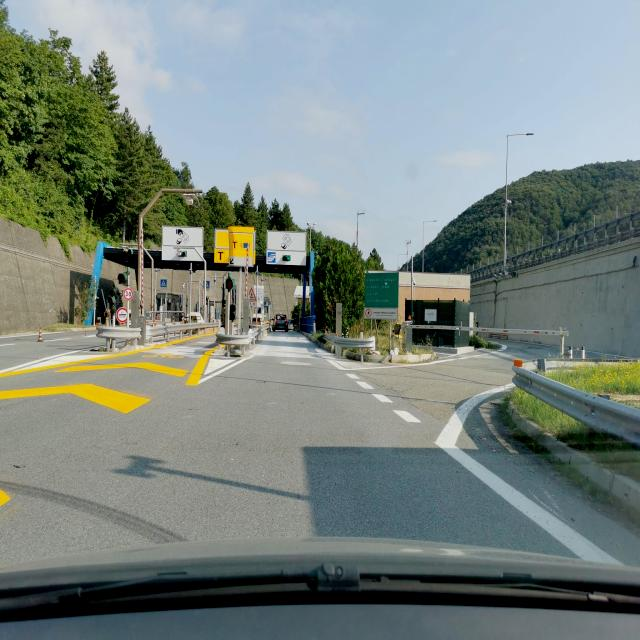car: (270, 312, 289, 333), (182, 312, 206, 324)
